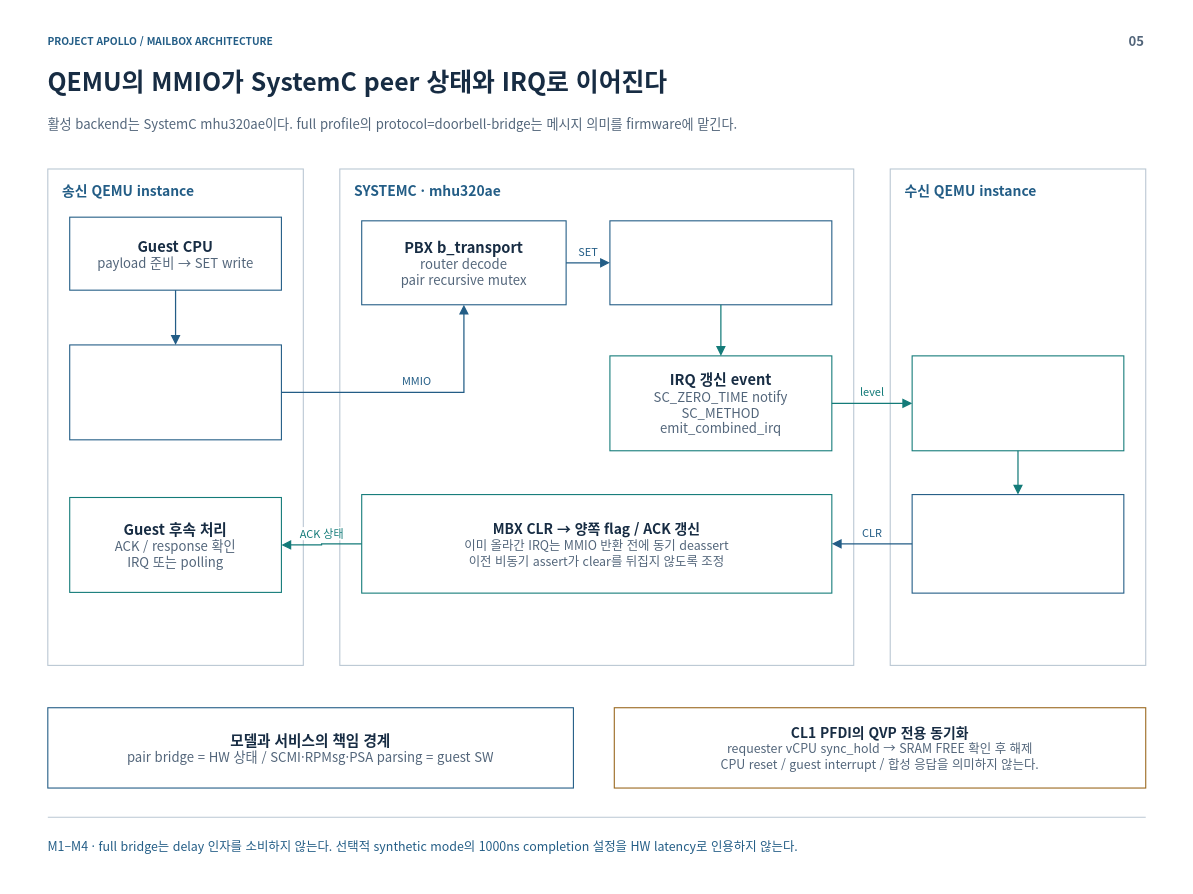
Some shapes in this 1193 by 894 pixel diagram are drawn without their labels. Each missing label, with the centre of its shape:
GIC / NVIC GPIO target instance lock 획득 pending → IRQ / FIQ: [1017,403]
Guest ISR channel / bit 분리 CLR / callback 순서는 driver별: [1017,543]
QemuInitiatorSocket iothread lock 해제 run_on_sysc TLM attrs / requester ID: [175,392]
동일 pair의 MBX peer STATUS |= bits payload queue 없음: [720,262]
